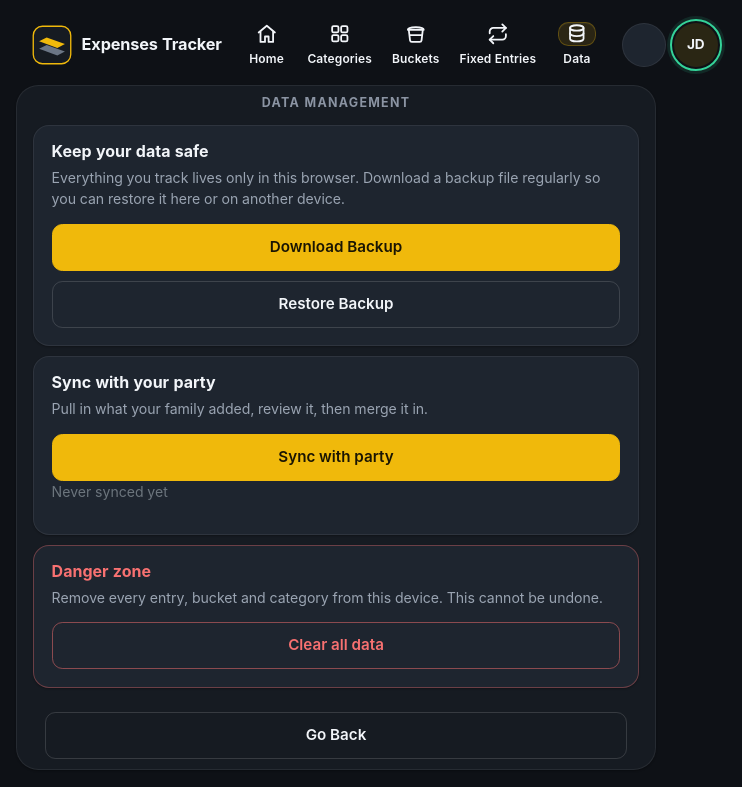
Test: a brand-new definition's history (RFC §4.1) › an edit to a definition this device already has stays its own card
The width and height of the screenshot is (742, 787).
Step 1. Click the button "Sync with party" → (336, 457), box [52,434,620,481]
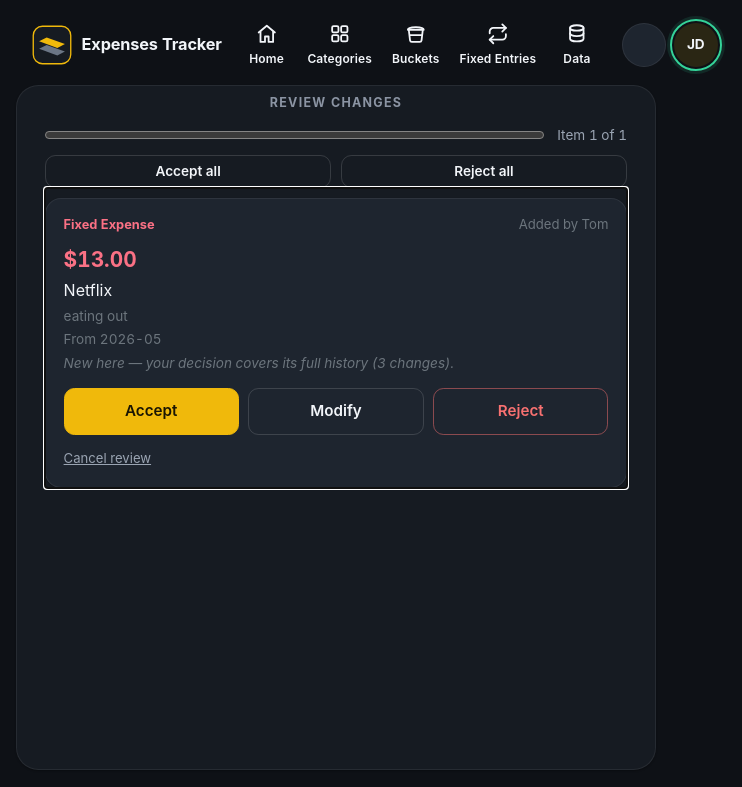
Step 2. Click the button with aria-label "Accept $13.00" → (151, 411), box [64,388,239,435]
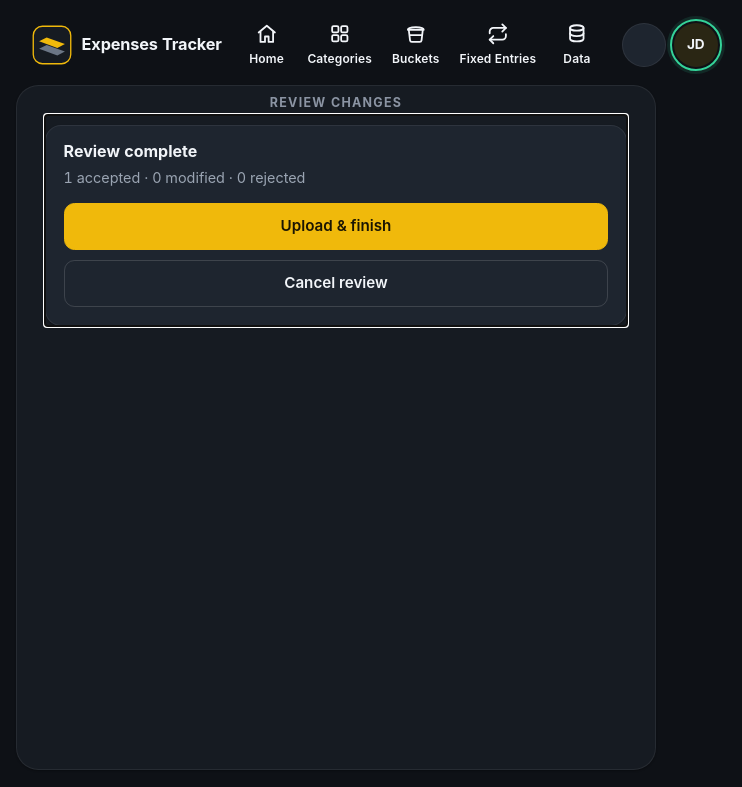
Step 3. Click the button "Upload & finish" → (336, 226), box [64,203,608,250]
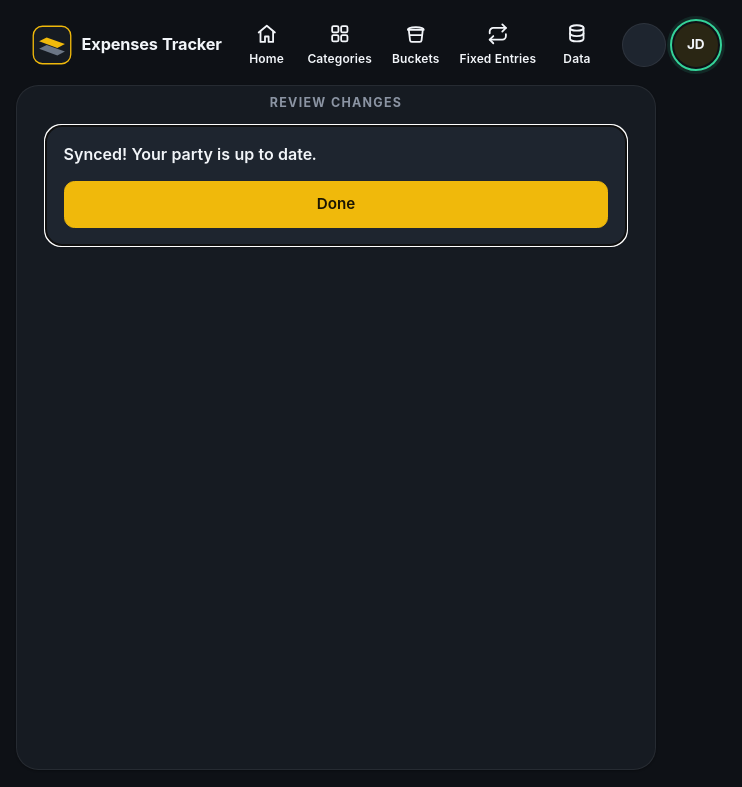
Step 4. Click the button "Done" → (336, 204), box [64,180,608,228]
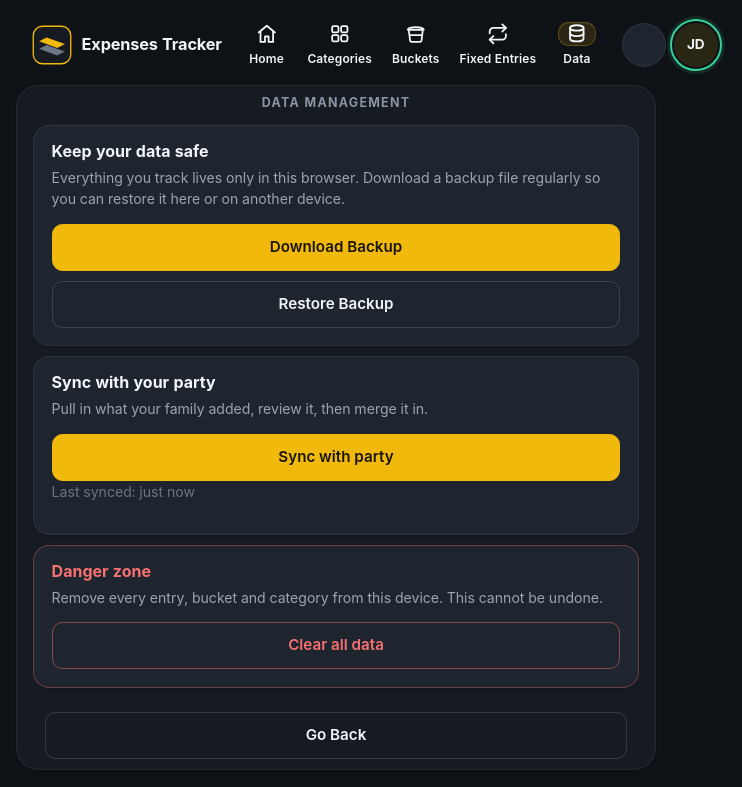
Step 5. Click the button "Sync with party" → (336, 457), box [52,434,620,481]
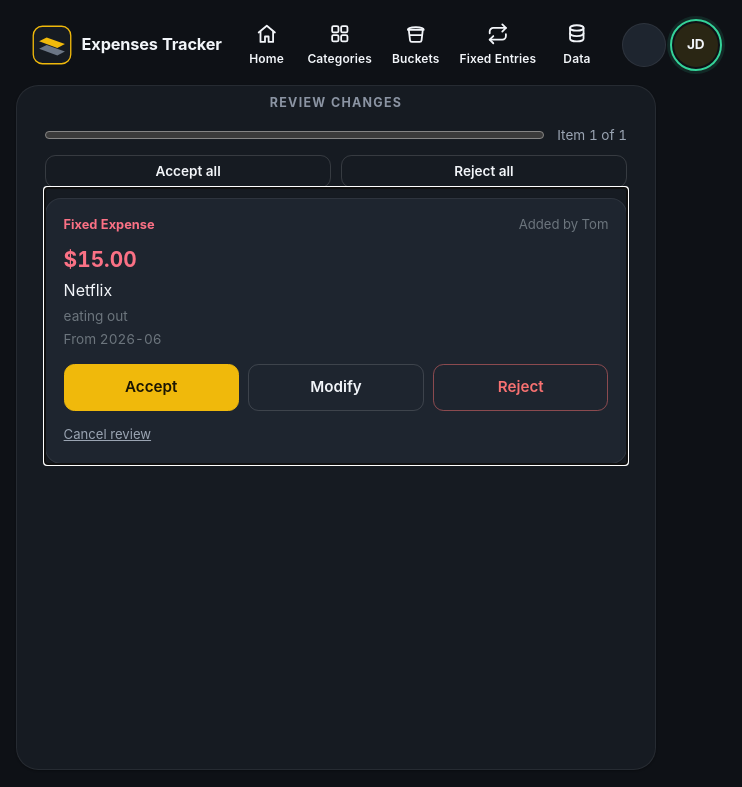
Expected: the text "your decision covers its full history" is not shown
Expected: the text "Item 1 of 1" is shown, [557,125,627,146]
Expected: the text "$15.00" is shown, [64,247,137,272]
